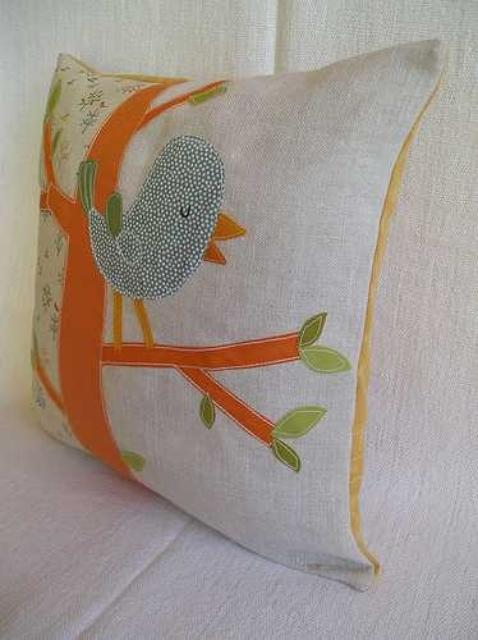pillow: (30, 36, 448, 592)
